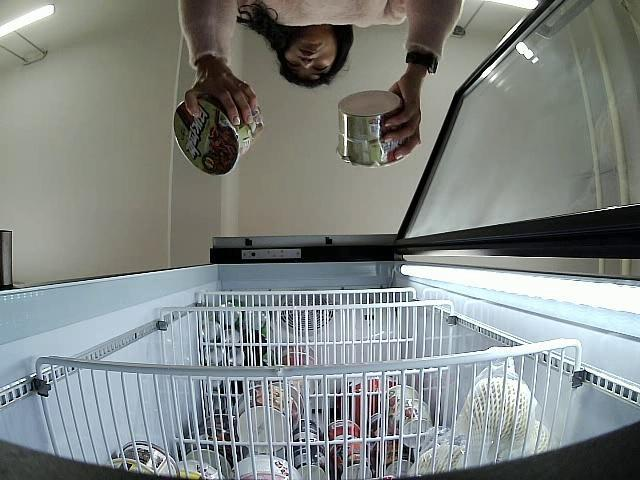03_chapagetti_L: (174, 90, 265, 175), (335, 88, 414, 168)
